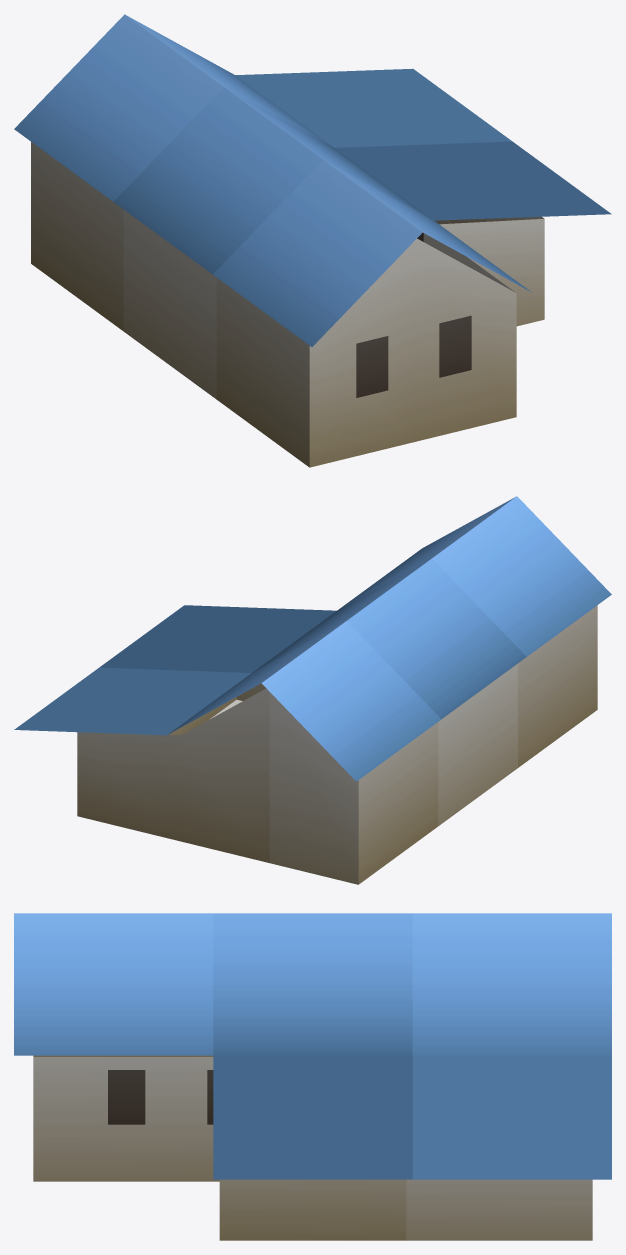
Rendered from SM_House_03.fbx.
3 renders of one model, top to bottom at view 1: azimuth 30°, elevation 25°; view 2: azimuth 150°, elevation 25°; view 3: azimuth 270°, elevation 25°, orthographic. The views are drawn at different scales.
Parts seen in each view (by area): view 1: SM_House_03; view 2: SM_House_03; view 3: SM_House_03.
Boxes of the visible parts, x1,y1,x2,y2 form: SM_House_03: [14, 14, 611, 467]; SM_House_03: [14, 496, 611, 884]; SM_House_03: [14, 913, 611, 1240].
Bounding box in the file's own units: 0.5789 × 0.3007 × 0.7487.
